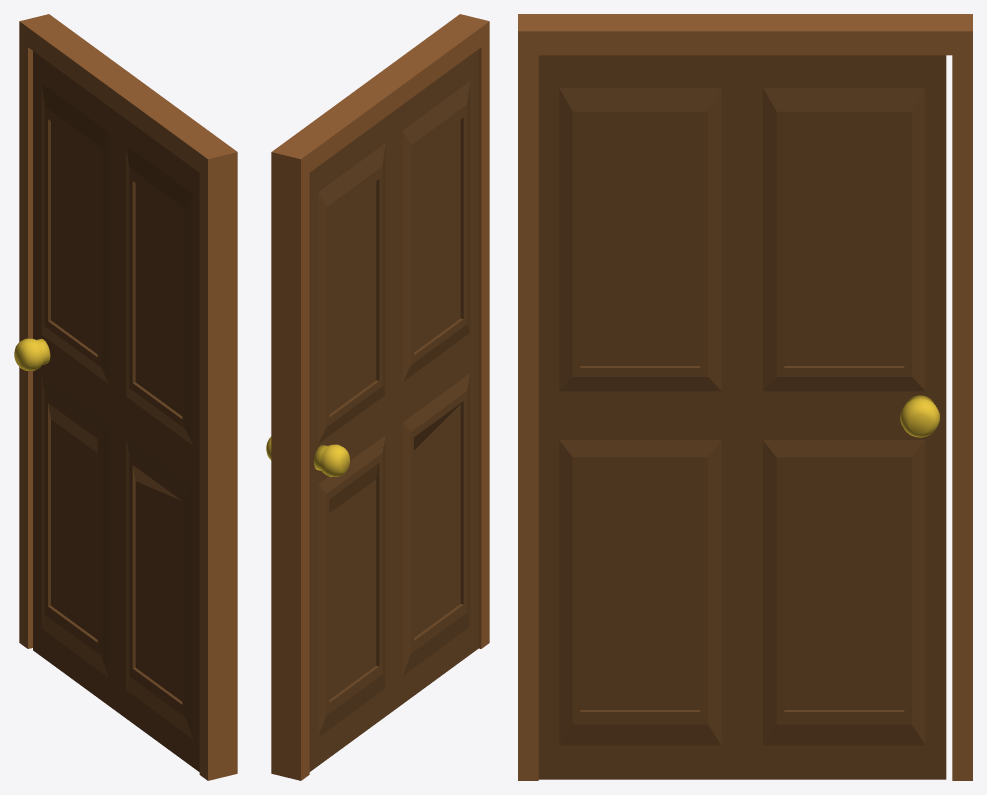
File: door.fbx
The picture shows the model from 3 angles, left to right: view 1: azimuth 30°, elevation 25°; view 2: azimuth 150°, elevation 25°; view 3: azimuth 270°, elevation 25°; orthographic projection. The views are drawn at different scales.
Parts seen in each view (by area): view 1: SM_Door, SM_Door_Frame; view 2: SM_Door, SM_Door_Frame; view 3: SM_Door, SM_Door_Frame.
Part boxes in pixels (bbox=[...]): SM_Door: bbox=[14, 51, 199, 771]; SM_Door_Frame: bbox=[19, 14, 237, 780]; SM_Door: bbox=[266, 49, 478, 771]; SM_Door_Frame: bbox=[271, 14, 489, 780]; SM_Door: bbox=[538, 55, 946, 779]; SM_Door_Frame: bbox=[518, 14, 972, 780].
Size of the model in its own units: 25.22 by 200 by 110.
